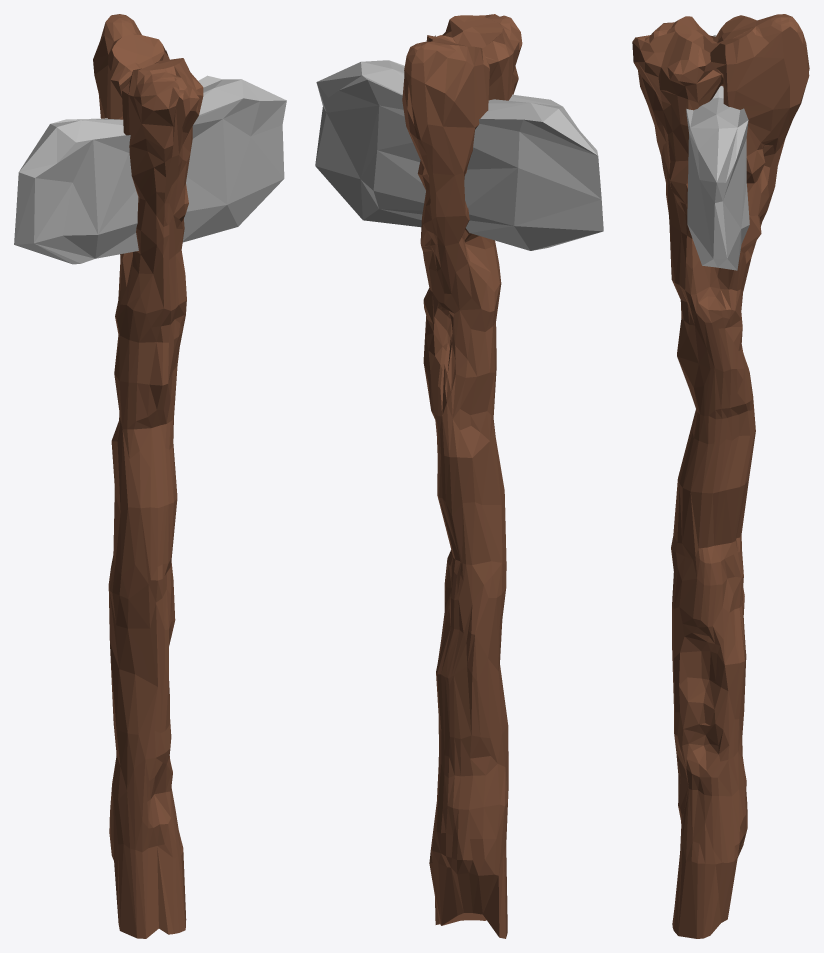
Rendered from Stoneaxe.fbx.
3 renders of one model, left to right at view 1: azimuth 30°, elevation 25°; view 2: azimuth 150°, elevation 25°; view 3: azimuth 270°, elevation 25°, orthographic. The views are drawn at different scales.
Visible parts, largest first — view 1: Cube.001; view 2: Cube.001; view 3: Cube.001.
Part boxes in pixels (left/top/right/bottom): Cube.001: left=14, top=14, right=286, bottom=938; Cube.001: left=315, top=14, right=603, bottom=938; Cube.001: left=632, top=14, right=809, bottom=938.
Bounding box in the file's own units: 849 × 2606 × 460.
